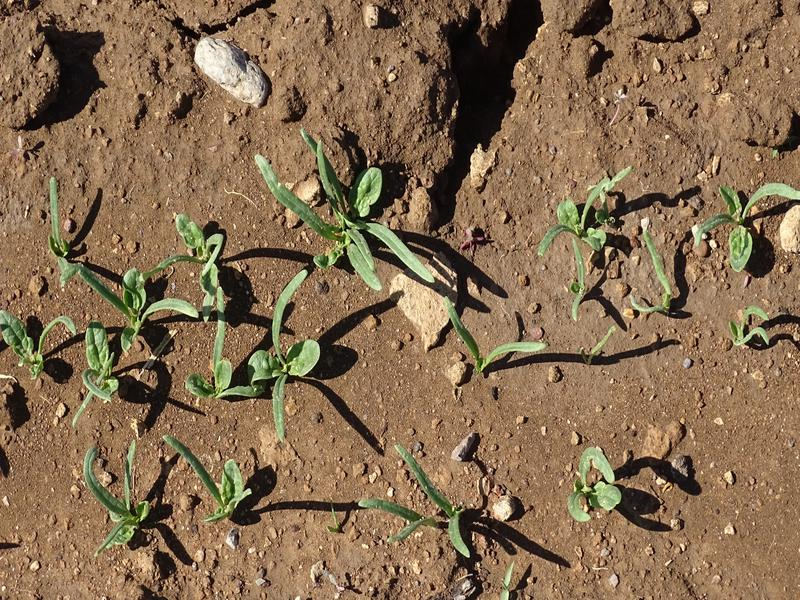Espinaca: (14, 144, 442, 549), (542, 156, 797, 296), (445, 296, 542, 377), (564, 447, 619, 523), (733, 304, 776, 351)
